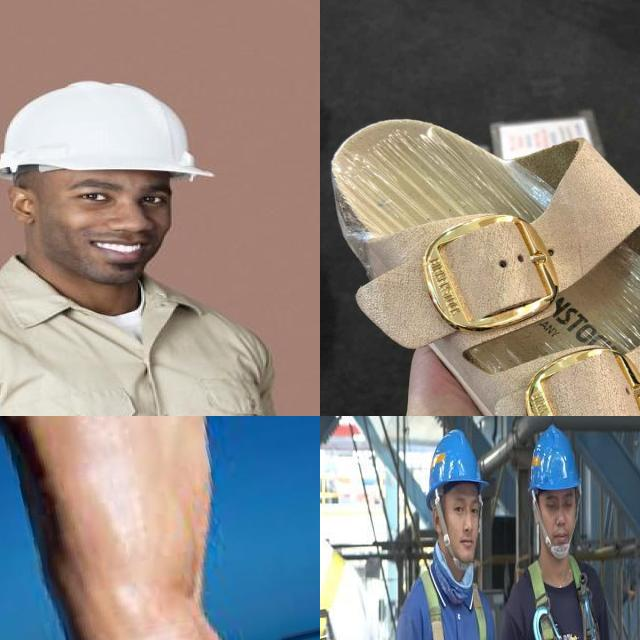Barefoots: (0, 416, 302, 640)
Harness: (520, 557, 614, 640)
No_Ear-Protection: (1, 79, 196, 284)
No_Glasses: (449, 495, 487, 520), (543, 495, 578, 517)
Sandals: (320, 88, 640, 416)
